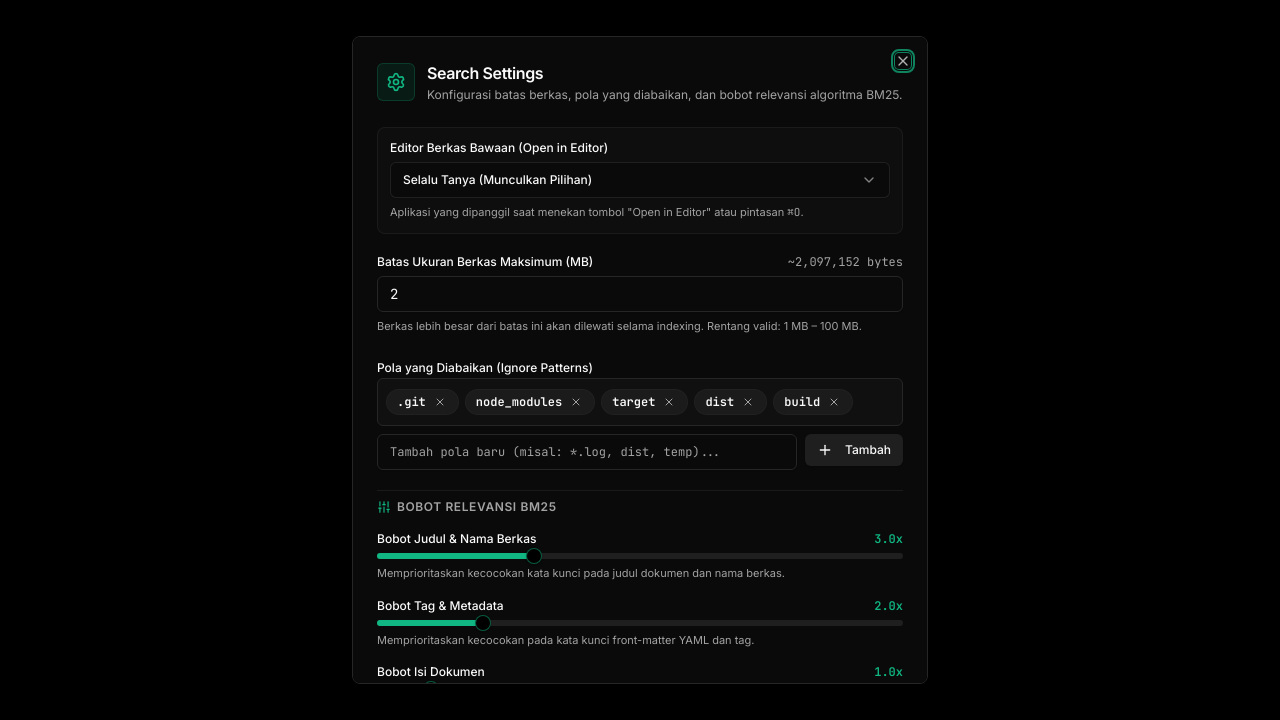
Test case: SettingsModal › removes an ignore pattern badge when clicking remove button
This screenshot has width=1280, height=720.
Expected: the text "build" is shown, 784,394 -> 820,410
Click the button named "Hapus pola build".
click(834, 402)  # box 826,394 -> 842,410
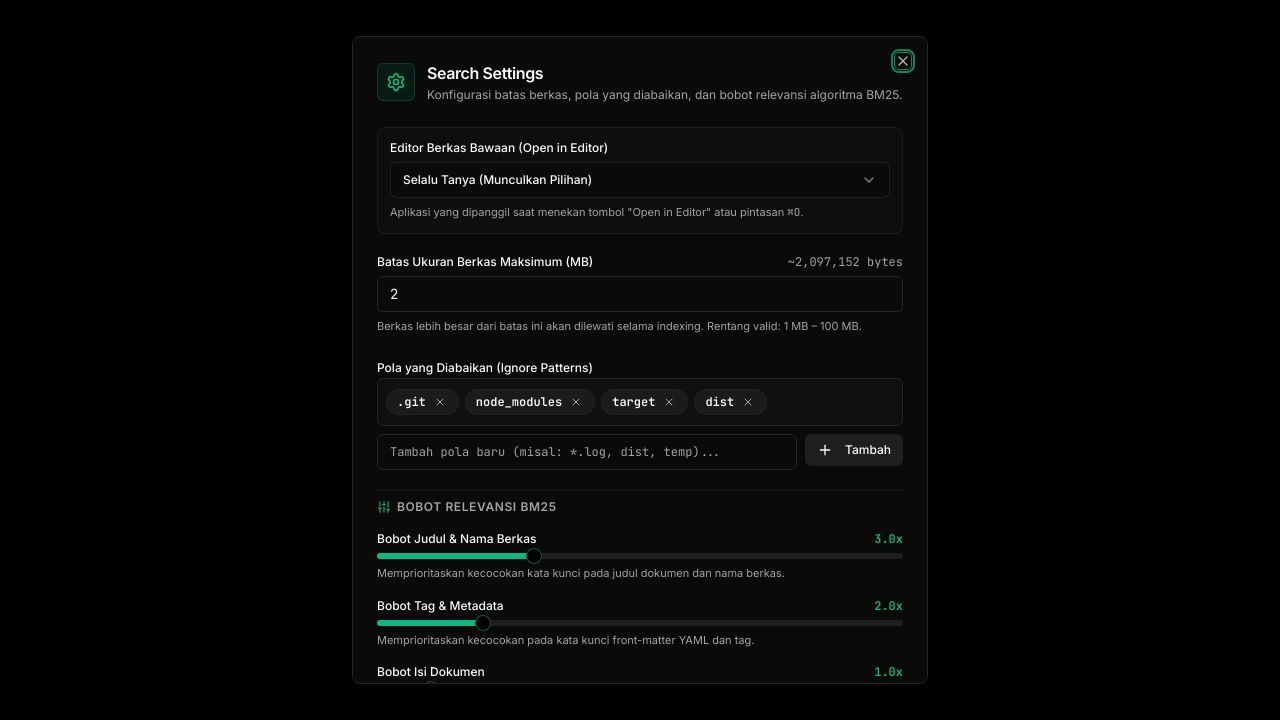
Now the text "build" is gone
